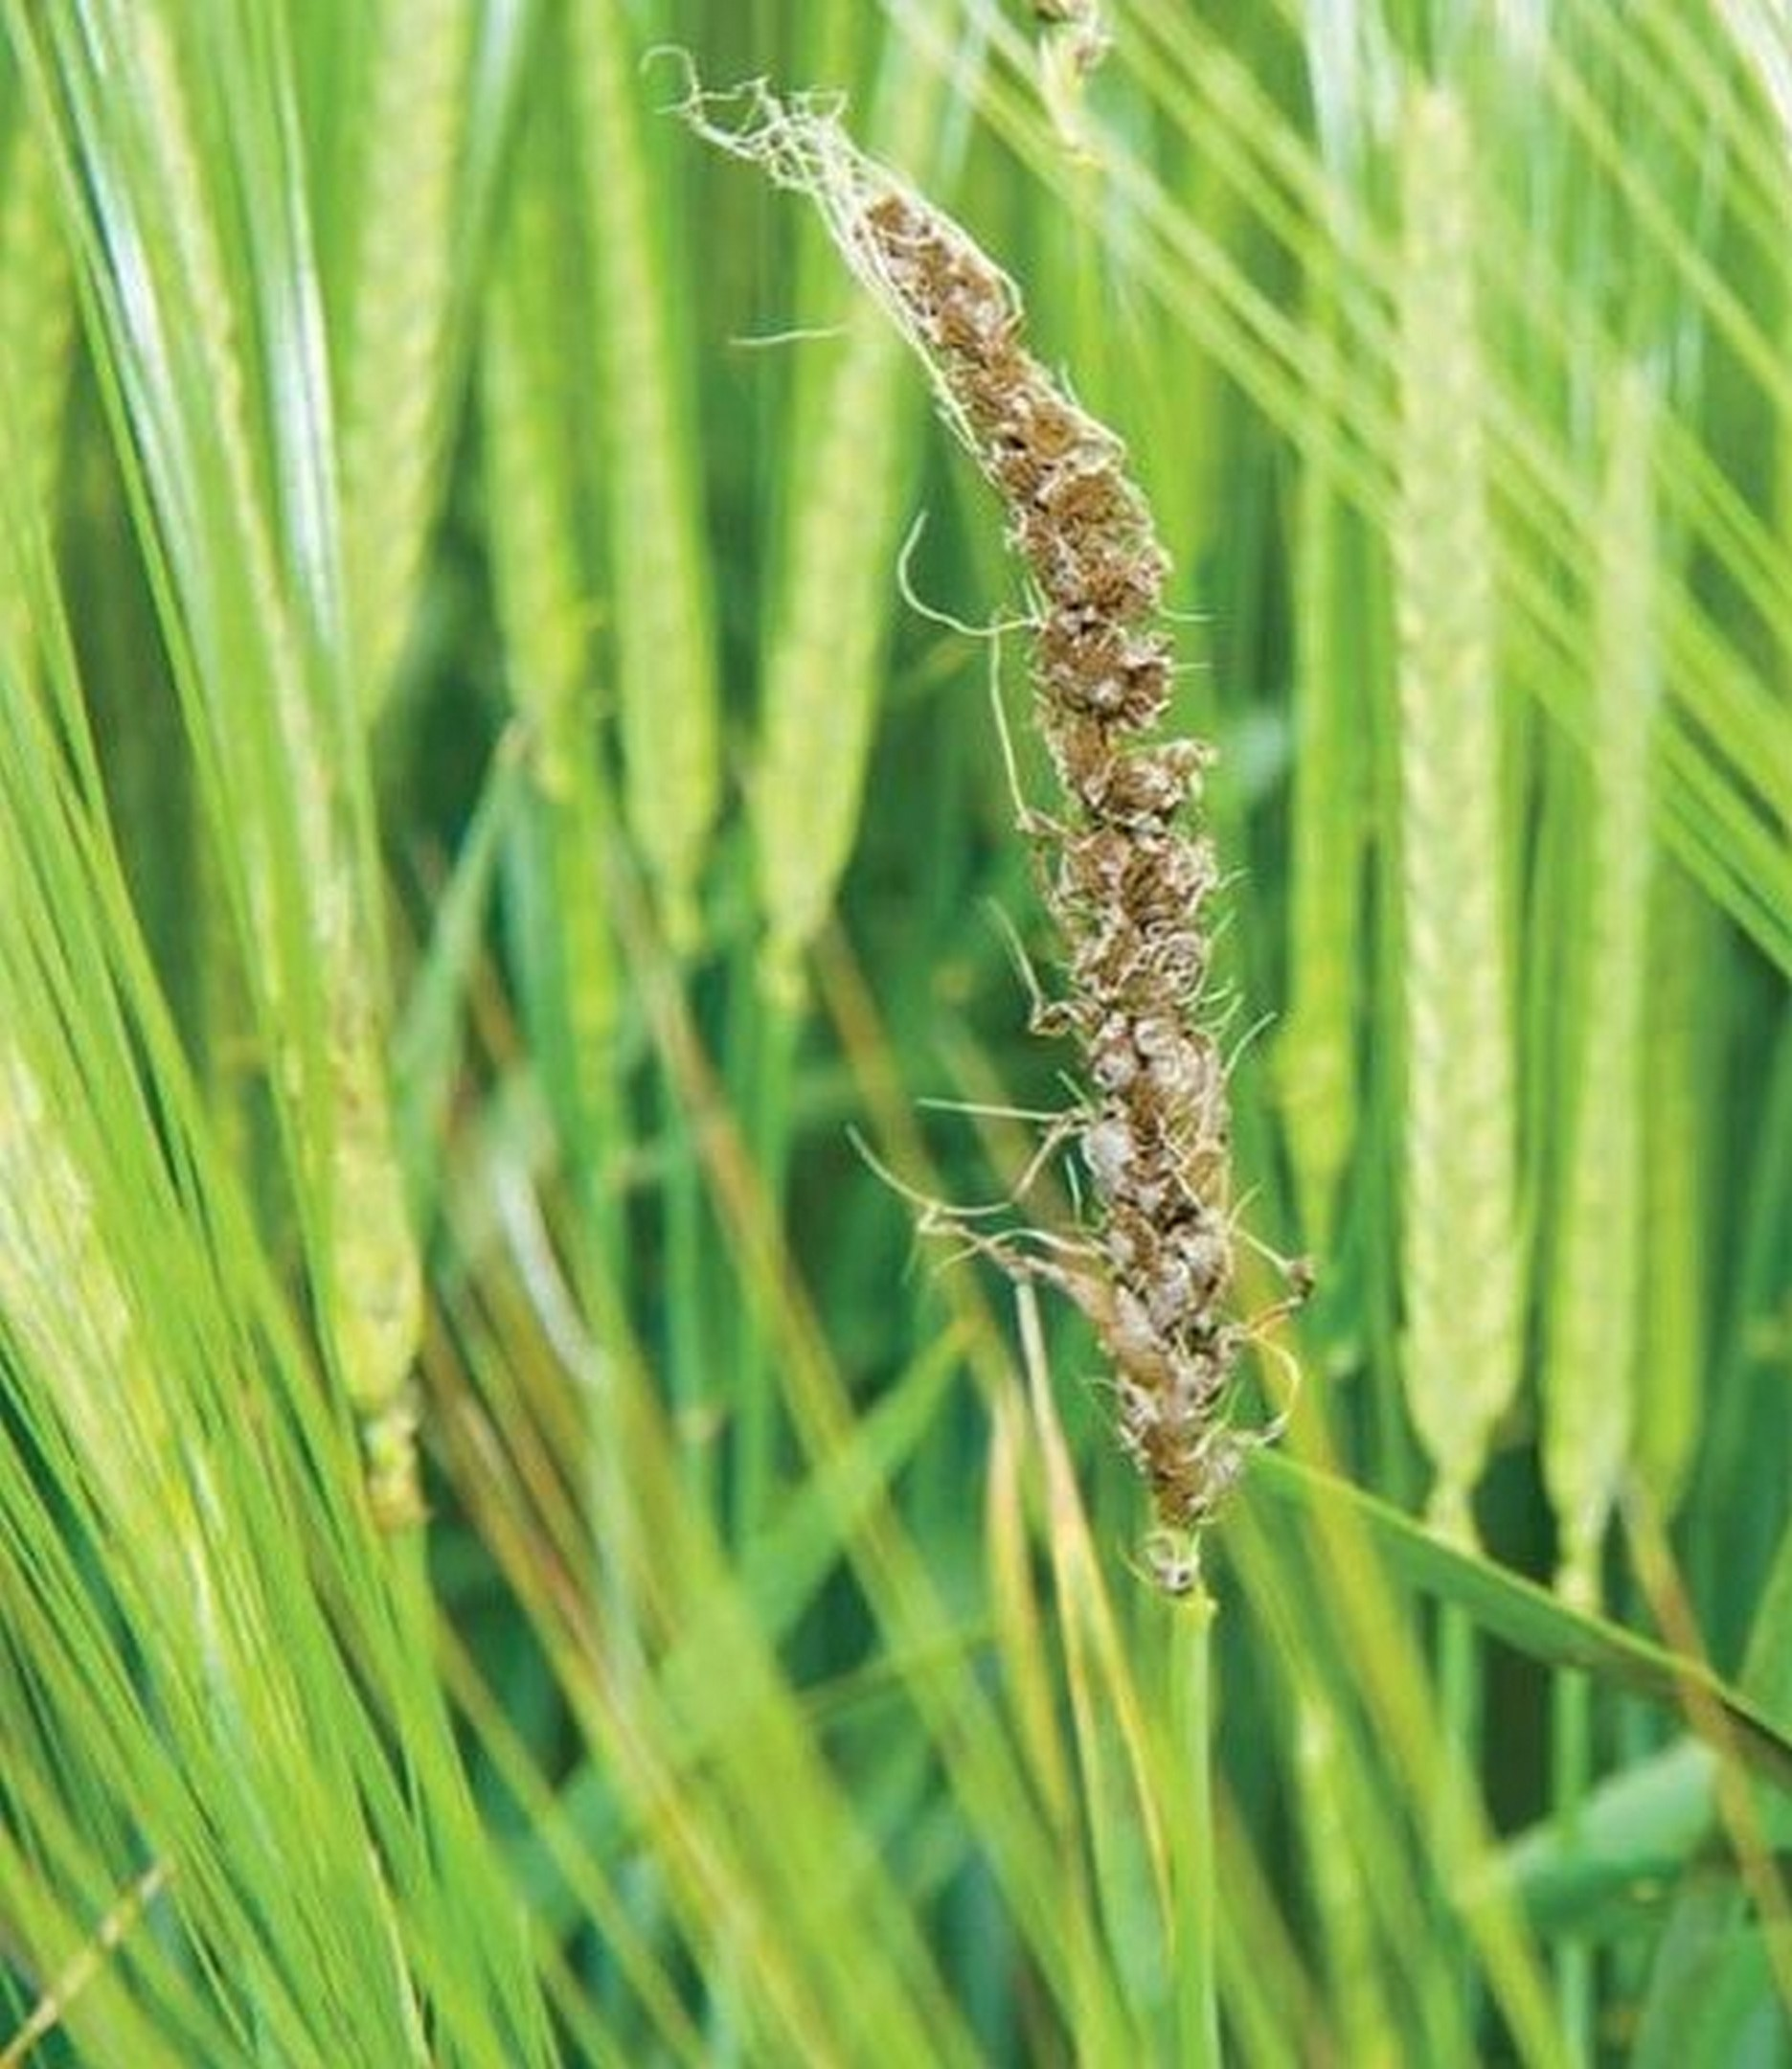Wheat Loose Smut: (790, 100, 1326, 1511)
